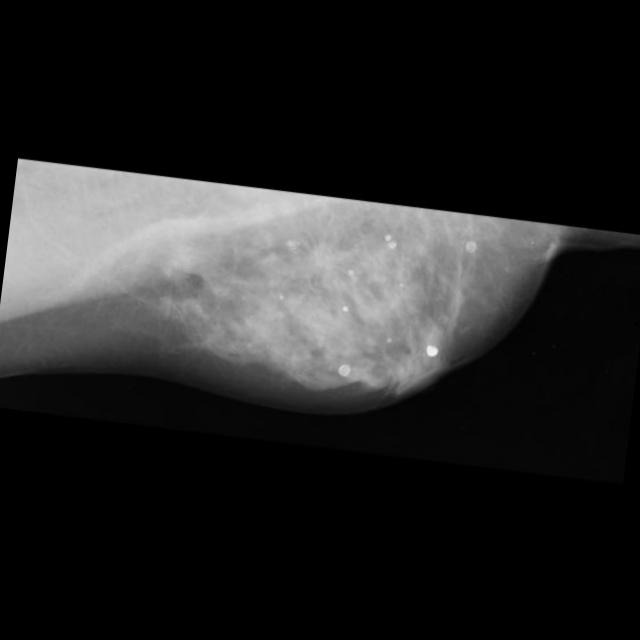SPIC: (288, 219, 354, 284)
